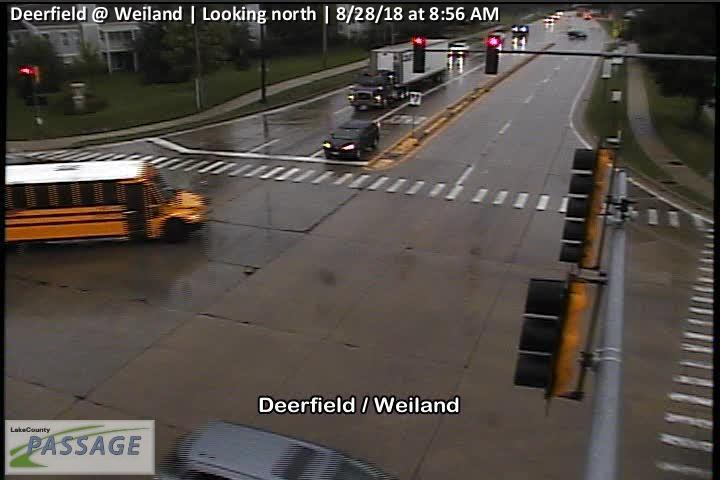Bus: (1, 159, 207, 239)
SUV: (323, 119, 380, 161)
Sedan: (156, 420, 397, 480), (450, 41, 470, 54)
Truck: (349, 38, 450, 109)
